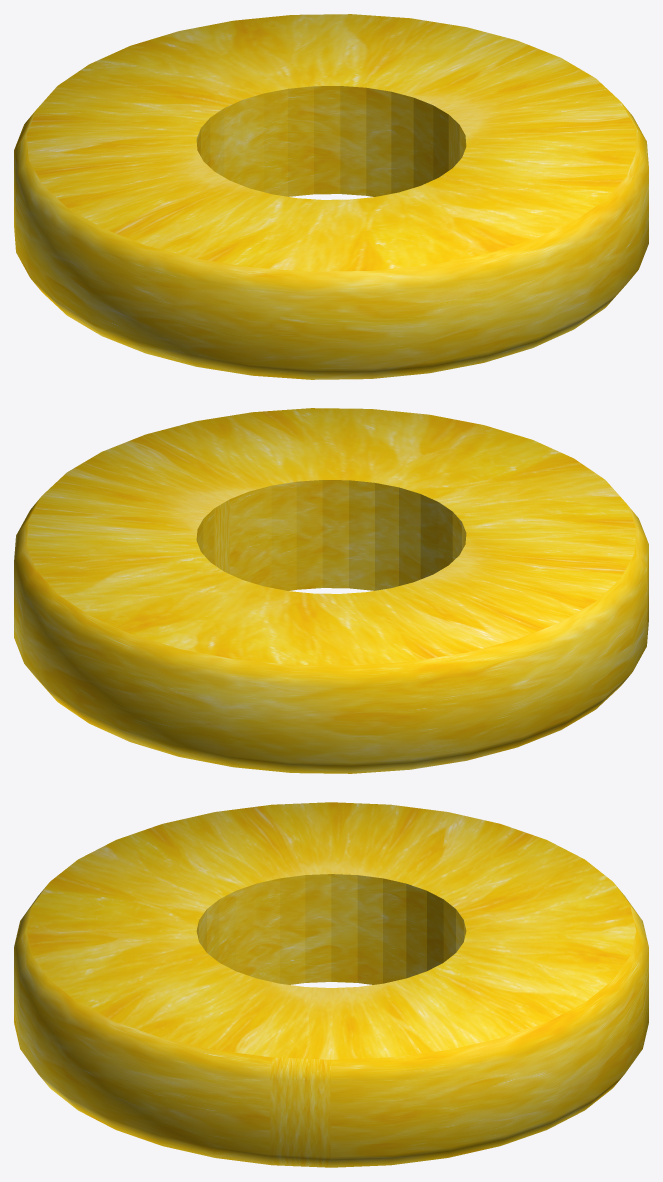
Rendered from pineapple_ring-DWDSgKXh.glb.
3 views of the same model, one above another, from view 1: azimuth 30°, elevation 25°; view 2: azimuth 150°, elevation 25°; view 3: azimuth 270°, elevation 25° (orthographic).
Visible parts, largest first — view 1: FLC_pineapple_ring; view 2: FLC_pineapple_ring; view 3: FLC_pineapple_ring.
Part boxes in pixels (bbox=[...]): FLC_pineapple_ring: bbox=[14, 14, 648, 379]; FLC_pineapple_ring: bbox=[14, 408, 648, 773]; FLC_pineapple_ring: bbox=[14, 802, 648, 1167].
Size of the model in its own units: 0.8 by 0.15 by 0.8.
1 material, 1 textured.
